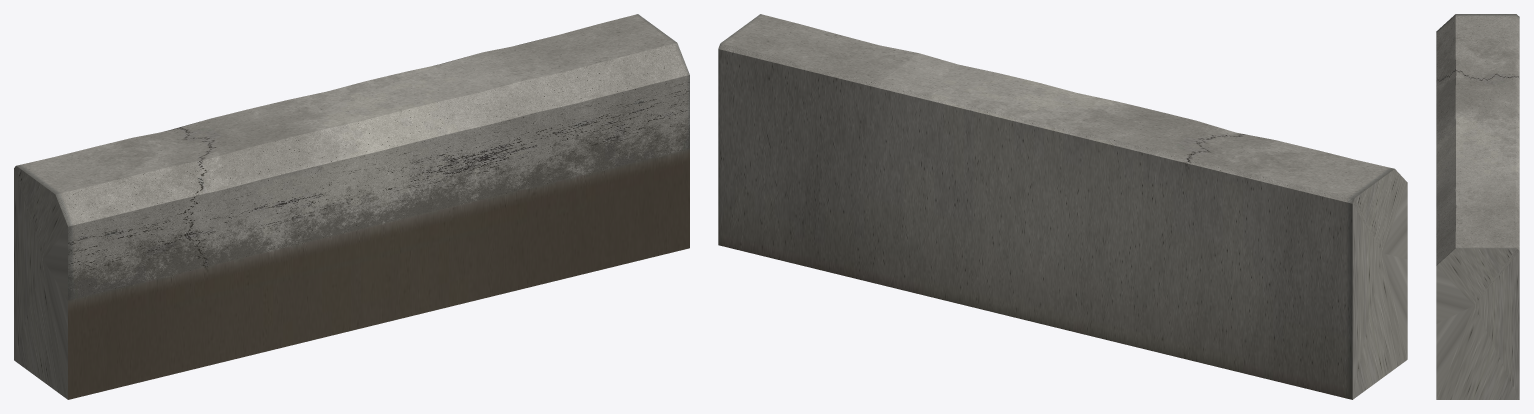
Rendered from curb_straight_bare_c_web.glb.
The picture shows the model from 3 angles, left to right: view 1: azimuth 30°, elevation 25°; view 2: azimuth 150°, elevation 25°; view 3: azimuth 270°, elevation 25°; orthographic projection. The views are drawn at different scales.
Parts seen in each view (by area): view 1: curb_straight_bare_c_Mesh; view 2: curb_straight_bare_c_Mesh; view 3: curb_straight_bare_c_Mesh.
Part boxes in pixels (<box>): curb_straight_bare_c_Mesh: <box>14,14,689,399</box>; curb_straight_bare_c_Mesh: <box>718,14,1407,399</box>; curb_straight_bare_c_Mesh: <box>1436,14,1519,399</box>.
Size of the model in its own units: 0.995 by 0.3 by 0.15.
1 material, 1 textured.
